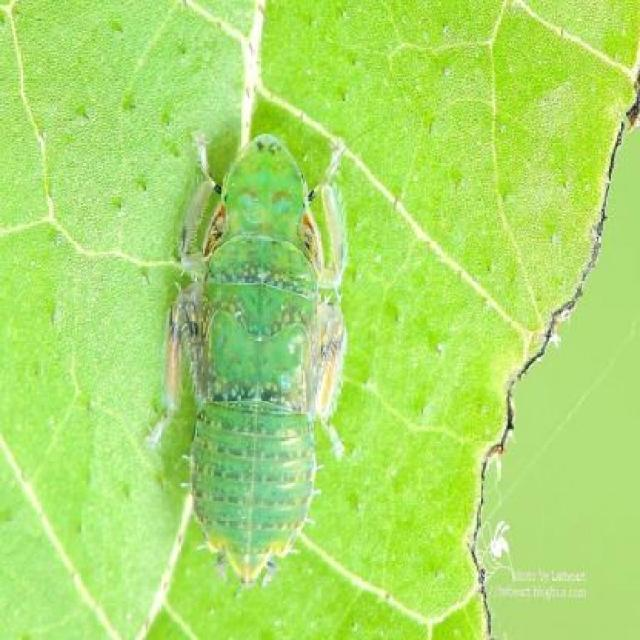green-leafhopper: (166, 124, 354, 576)
